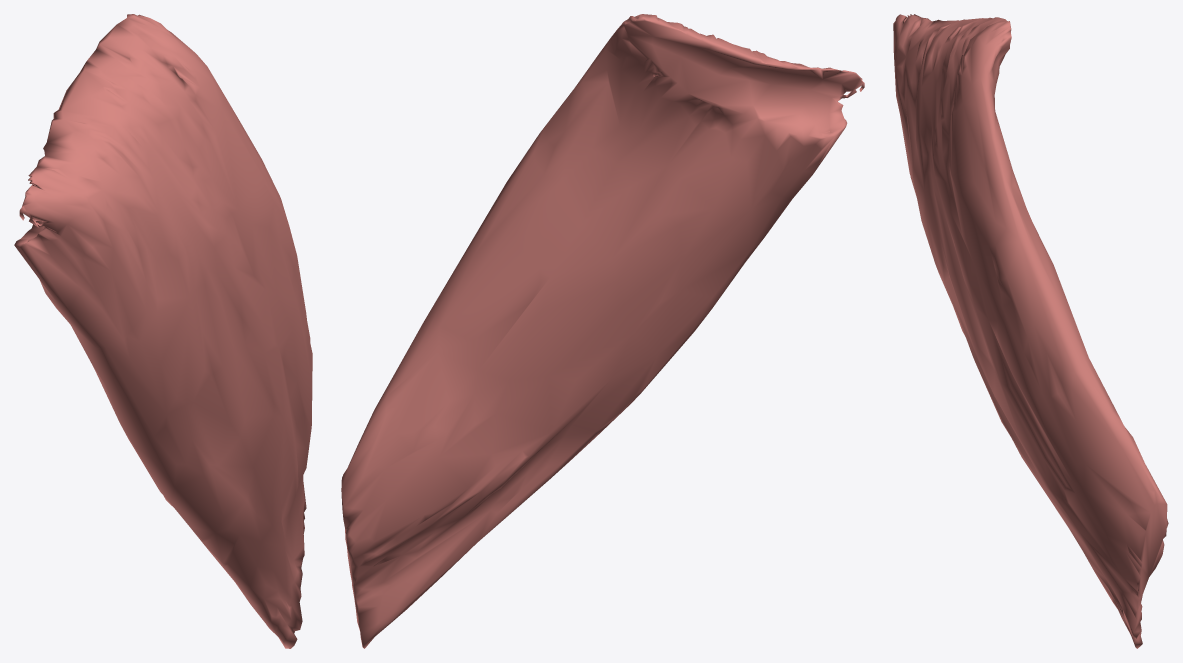
3 views of the same model, side by side, from view 1: azimuth 30°, elevation 25°; view 2: azimuth 150°, elevation 25°; view 3: azimuth 270°, elevation 25° (orthographic). The views are drawn at different scales.
Parts seen in each view (by area): view 1: ZA_ca854ecababae8ca; view 2: ZA_ca854ecababae8ca; view 3: ZA_ca854ecababae8ca.
Boxes of the visible parts, x1,y1,x2,y2 form: ZA_ca854ecababae8ca: [14, 14, 312, 648]; ZA_ca854ecababae8ca: [341, 14, 864, 648]; ZA_ca854ecababae8ca: [893, 14, 1168, 648].
Bounding box in the file's own units: 0.0828 × 0.1312 × 0.0606.
